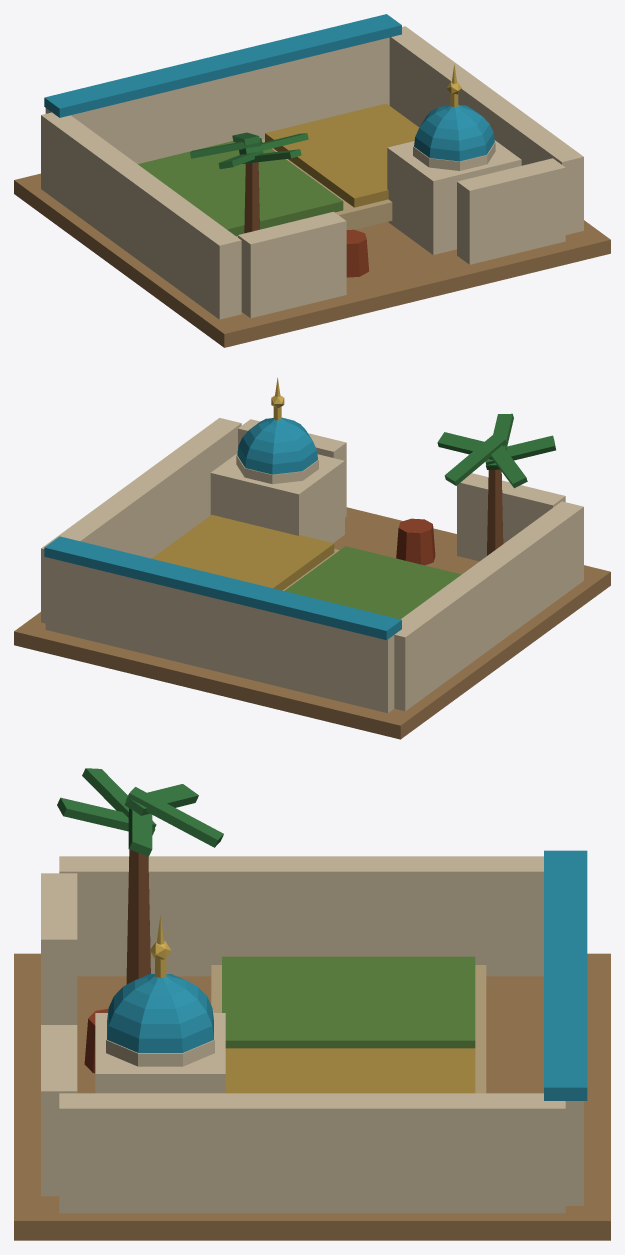
File: farm_t1.glb
The picture shows the model from 3 angles, top to bottom: view 1: azimuth 30°, elevation 25°; view 2: azimuth 150°, elevation 25°; view 3: azimuth 270°, elevation 25°; orthographic projection. The views are drawn at different scales.
Parts seen in each view (by area): view 1: body; view 2: body; view 3: body.
Boxes of the visible parts, bbox=[...] form: body: bbox=[14, 14, 610, 347]; body: bbox=[14, 377, 610, 739]; body: bbox=[14, 768, 610, 1240].
Size of the model in its own units: 1.75 by 0.7712 by 1.65.
